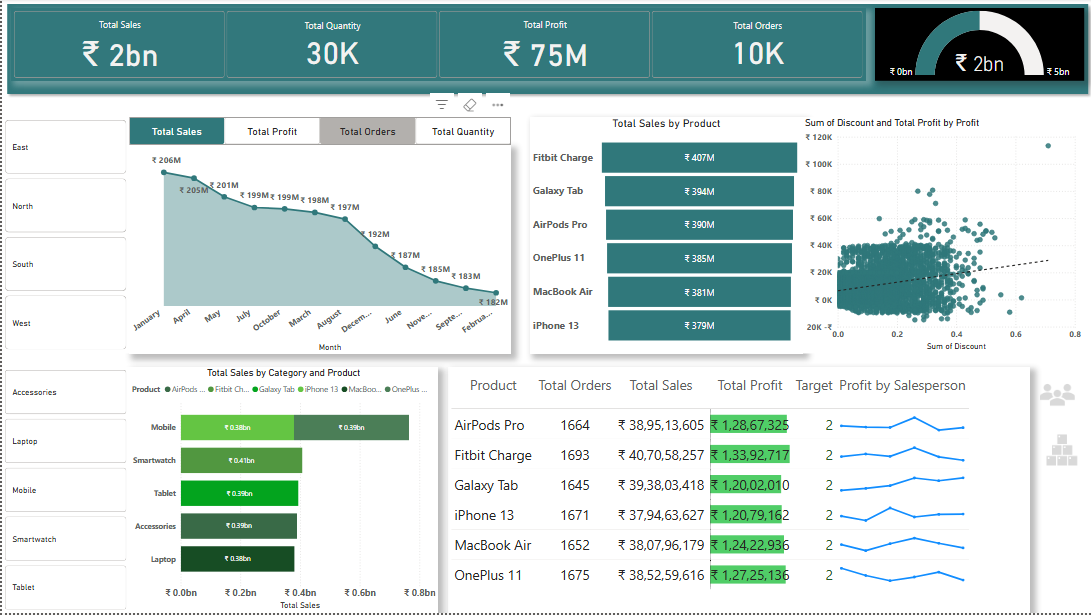

What the dashboard file says about the page in this screenshot:
{"tool":"powerbi","page":{"name":"Dashboard","canvas":[1920,1080],"ordinal":0},"visuals":[{"type":"shape","box":[0,0,1920,176],"z":0},{"type":"lineChart","fields":{"Y":["_Measures (2).Total Sales"],"Category":["batman_sales_data.Month"]},"box":[224,256,672,368],"z":1000},{"type":"funnel","fields":{"Category":["batman_sales_data.Product"],"Y":["_Measures (2).Total Sales"]},"box":[928,208,480,416],"z":2000},{"type":"advancedSlicerVisual","fields":{"Values":["Parameter.Parameter"]},"box":[224,208,672,48],"z":3000},{"type":"cardVisual","fields":{"Data":["_Measures (2).Total Sales","_Measures (2).Total Quantity","_Measures (2).Total Profit","_Measures (2).Total Orders"]},"box":[16,16,1504,128],"z":4000},{"type":"gauge","fields":{"Y":["_Measures (2).Total Sales"]},"box":[1536,16,368,128],"z":5000},{"type":"barChart","fields":{"Category":["batman_products.Category"],"Y":["_Measures (2).Total Sales"],"Series":["batman_sales_data.Product"]},"box":[224,648,544,432],"z":6000},{"type":"tableEx","title":"Products Table","fields":{"Values":["batman_sales_data.Product","_Measures (2).Total Orders","_Measures (2).Total Sales","_Measures (2).Total Profit","_Measures (2).Profit Target Indicator","SparklineData(_Measures (2).Total Profit_[batman_sales_data.Salesperson])"]},"box":[784,648,1024,432],"z":8000},{"type":"image","title":"People Image","box":[1808,656,96,80],"z":9000},{"type":"image","title":"Product Image","box":[1808,752,112,80],"z":10000},{"type":"scatterChart","fields":{"X":["batman_sales_data.Discount"],"Y":["_Measures (2).Total Profit"],"Category":["batman_sales_data.Profit"]},"box":[1408,208,496,416],"z":11000},{"type":"advancedSlicerVisual","fields":{"Values":["batman_salespeople.Region"]},"box":[0,208,224,416],"z":13000},{"type":"advancedSlicerVisual","fields":{"Values":["batman_sales_data.Category"]},"box":[0,648,224,432],"z":13001}]}

Visuals, with their boxes in screenshot pixels (x1, y1, x2, y2), scaled from the page's 1920x1080 canvas onto the 1091x615 screenshot:
shape: {"left": 0, "top": 0, "right": 1090, "bottom": 100}
lineChart - _Measures (2).Total Sales x batman_sales_data.Month: {"left": 127, "top": 146, "right": 509, "bottom": 355}
funnel - batman_sales_data.Product x _Measures (2).Total Sales: {"left": 527, "top": 118, "right": 800, "bottom": 355}
advancedSlicerVisual - Parameter.Parameter: {"left": 127, "top": 118, "right": 509, "bottom": 146}
cardVisual - _Measures (2).Total Sales x _Measures (2).Total Quantity: {"left": 9, "top": 9, "right": 864, "bottom": 82}
gauge - _Measures (2).Total Sales: {"left": 873, "top": 9, "right": 1082, "bottom": 82}
barChart - batman_products.Category x _Measures (2).Total Sales: {"left": 127, "top": 369, "right": 436, "bottom": 614}
"Products Table" tableEx: {"left": 445, "top": 369, "right": 1027, "bottom": 614}
"People Image" image: {"left": 1027, "top": 374, "right": 1082, "bottom": 419}
"Product Image" image: {"left": 1027, "top": 428, "right": 1090, "bottom": 474}
scatterChart - batman_sales_data.Discount x _Measures (2).Total Profit: {"left": 800, "top": 118, "right": 1082, "bottom": 355}
advancedSlicerVisual - batman_salespeople.Region: {"left": 0, "top": 118, "right": 127, "bottom": 355}
advancedSlicerVisual - batman_sales_data.Category: {"left": 0, "top": 369, "right": 127, "bottom": 614}
